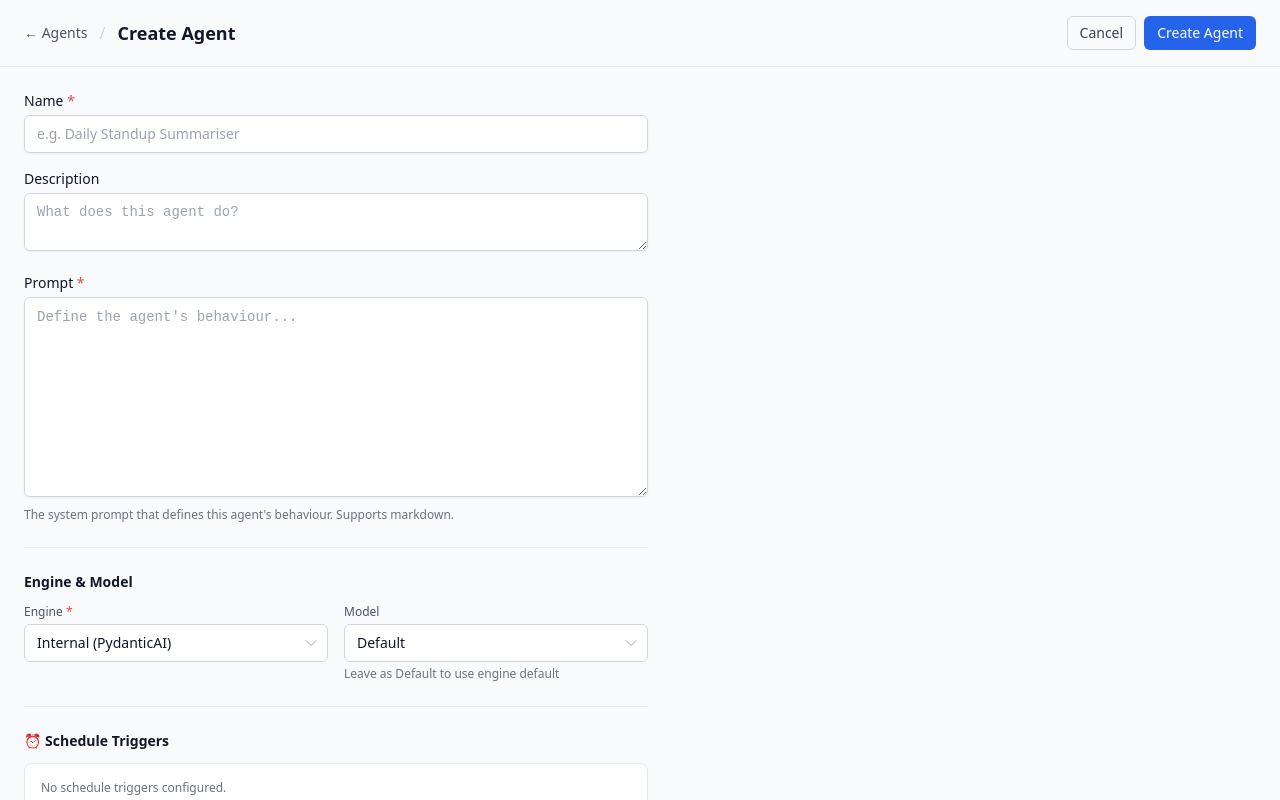
it: BackgroundAgentEditor — create mode › shows validation error when name is missing
The image size is (1280, 800).
Expected: the heading "Create Agent" is shown, [118,19,236,47]
Note: Fill in prompt but not name
Type "Do something" into the text box with placeholder "Define the agent's behaviour..." at (336, 397), box [24,297,648,497]
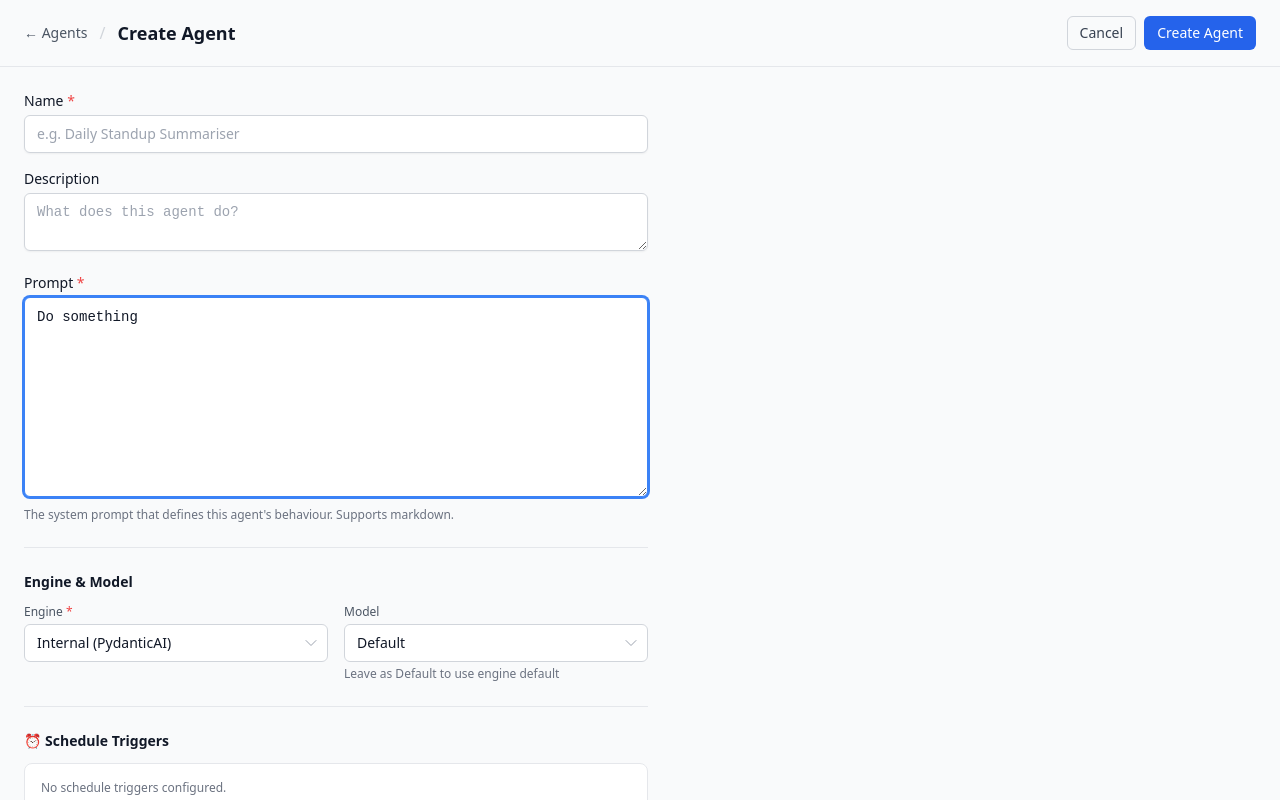
Note: Click save
Click the button "Create Agent" at (1200, 33), box [1144,16,1256,50]
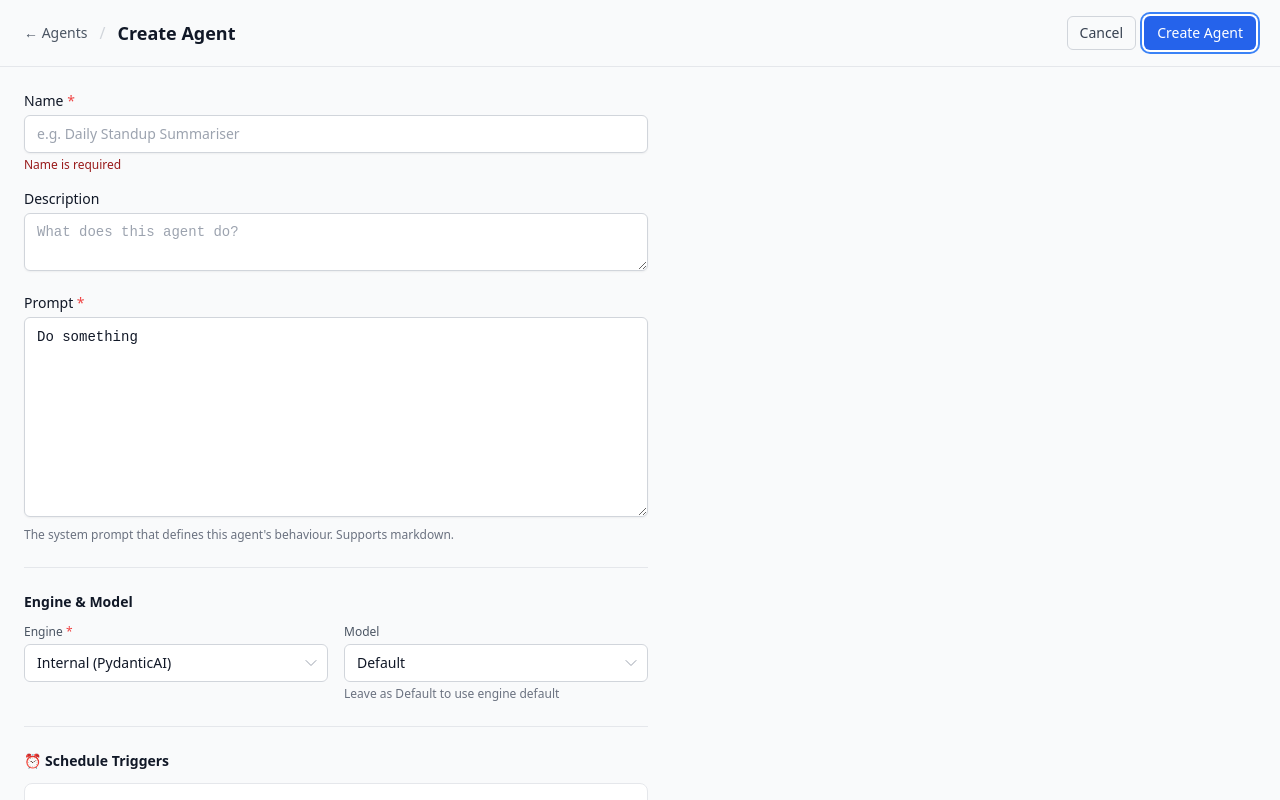
Expected: the text "Name is required" is shown, [24,156,121,173]
